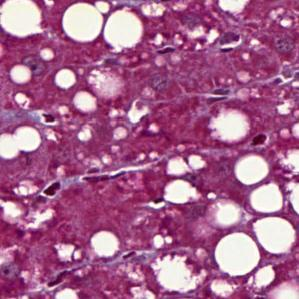ballooning: (149, 249, 207, 295)
